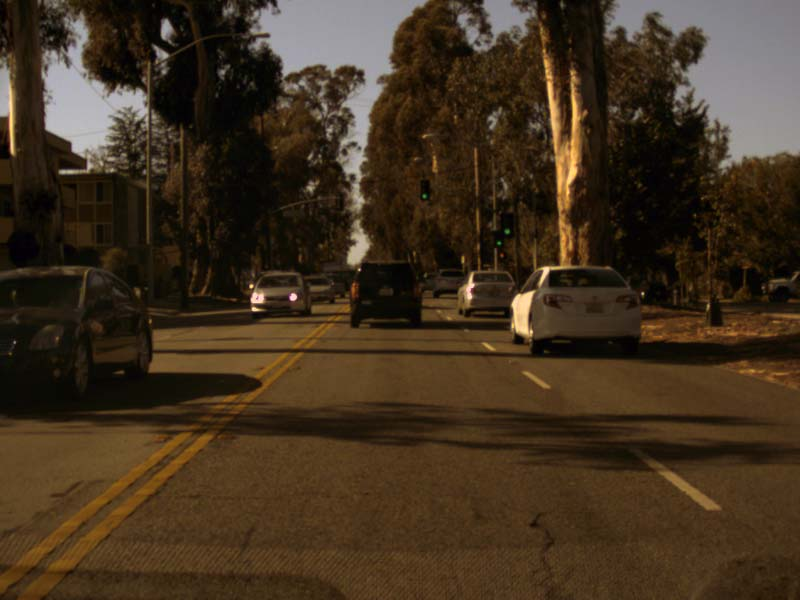Green: (499, 213, 513, 237), (419, 179, 429, 200), (493, 231, 503, 247)
